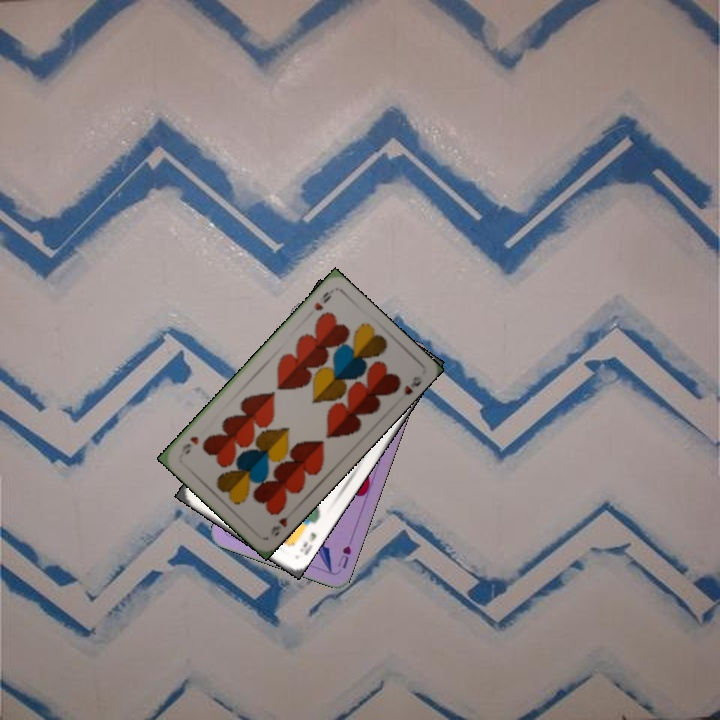EK: (296, 528, 319, 558)
H9: (266, 507, 296, 538), (310, 286, 335, 314)
HU: (333, 542, 354, 571)
